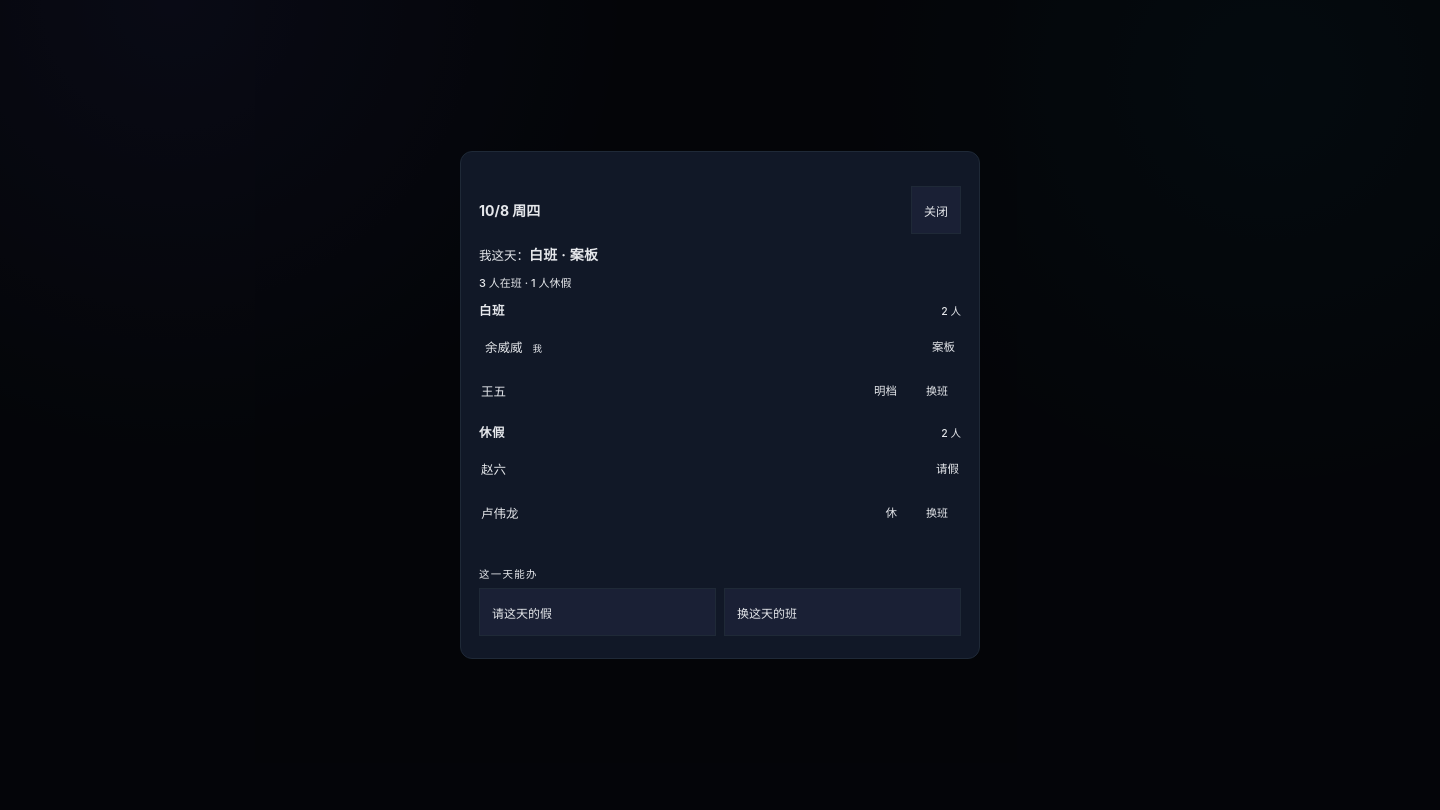
某一天的操作单：点开一天就能把那天的事办掉（票 15） › 点「换这天的班」时，休的人也在这份候选名单里（写「那天休」）
Click the button "换这天的班" at (842, 612), box [724,588,961,636]
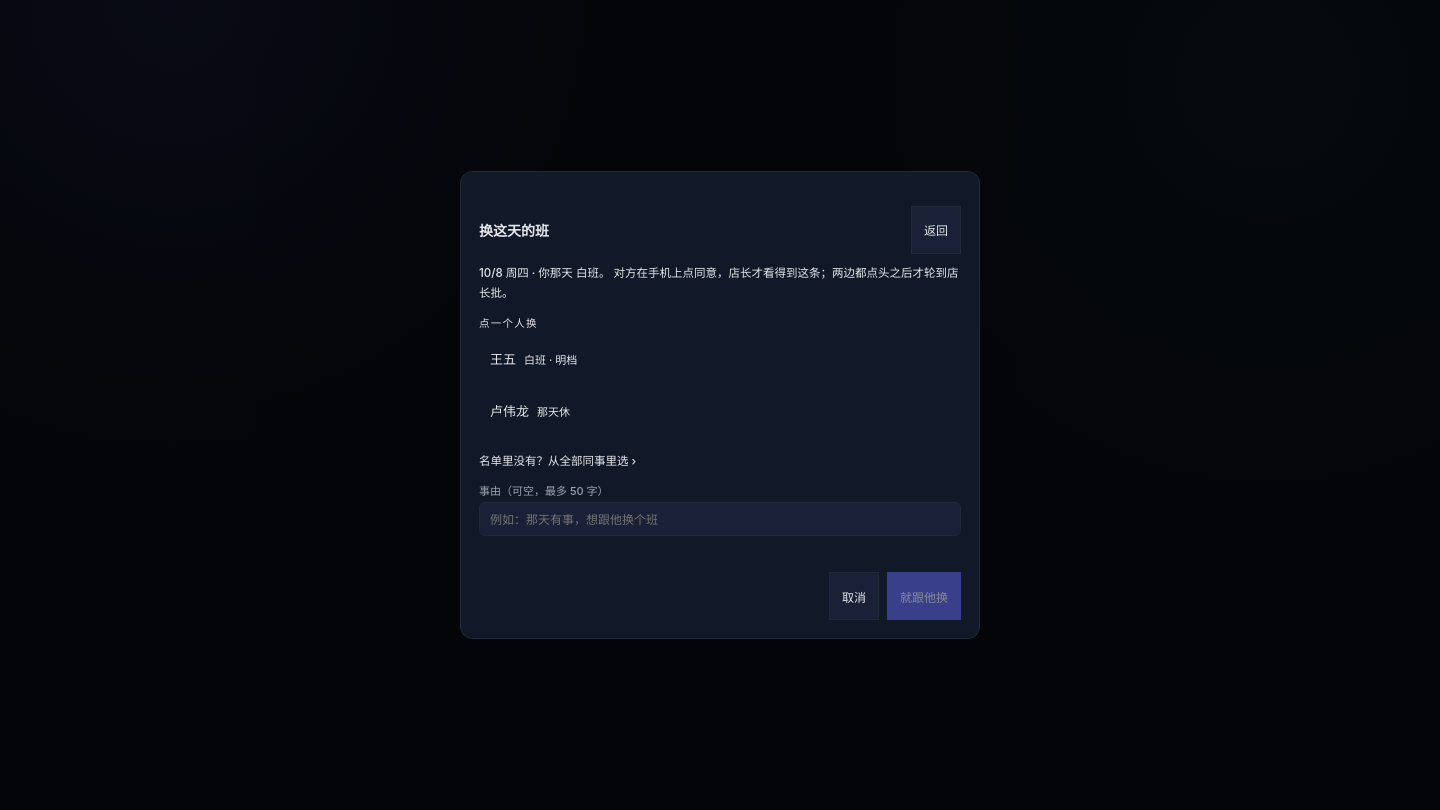
Now the button with class "ds-person" shows "那天休", box [479,392,961,438]
